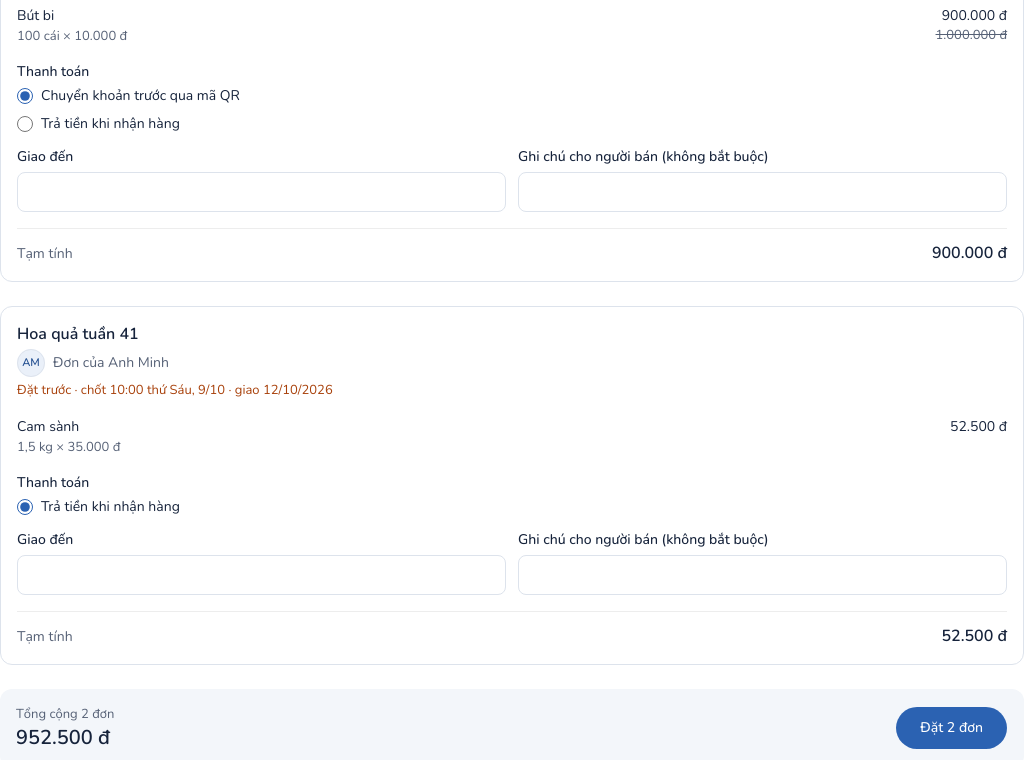
Test: CheckoutPage › asks for a delivery location before placing
(page scrolled)
Click the button "Đặt 2 đơn": (952, 728) [895,706,1008,750]
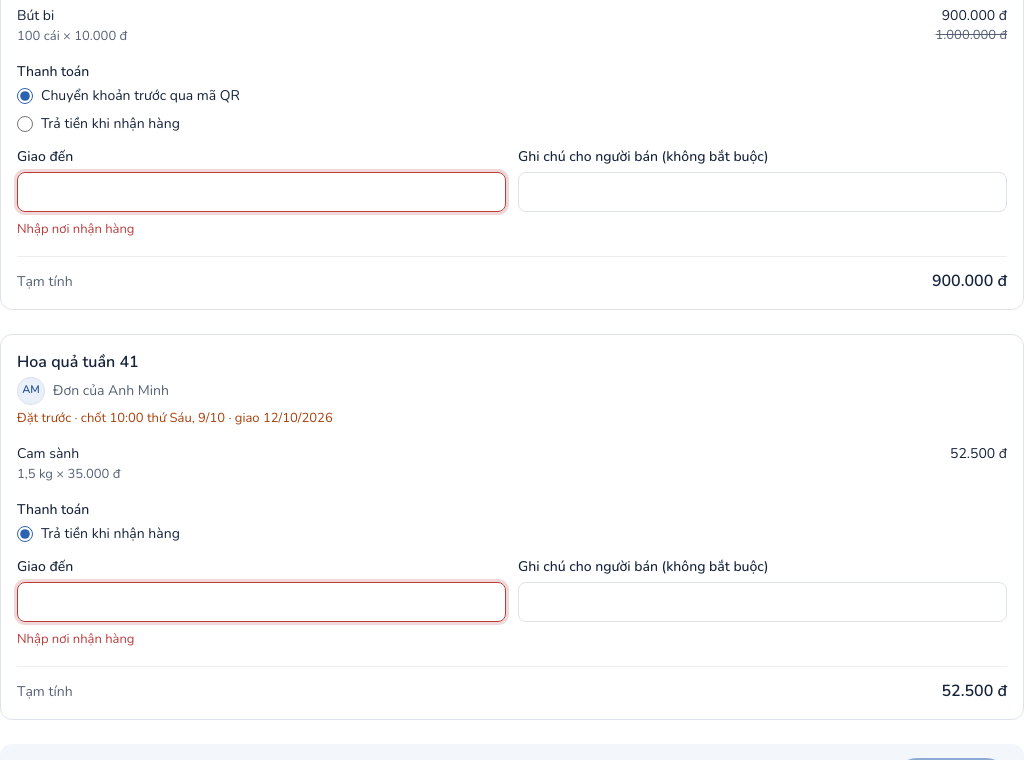
Now the text "Nhập nơi nhận hàng" is shown 2 times, box [17,220,134,238]; [17,630,134,648]
